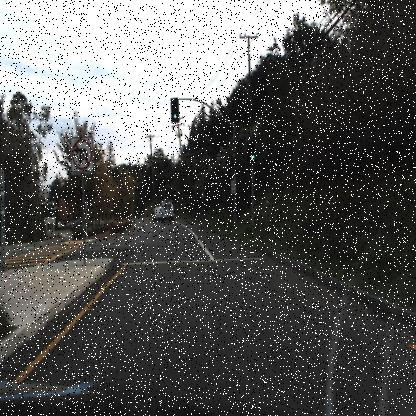car: (70, 216, 91, 238), (160, 198, 175, 222), (150, 200, 160, 223), (72, 217, 87, 231)
trafficLight-Green: (170, 98, 182, 130), (169, 95, 180, 125), (247, 142, 257, 168), (249, 147, 257, 170)
